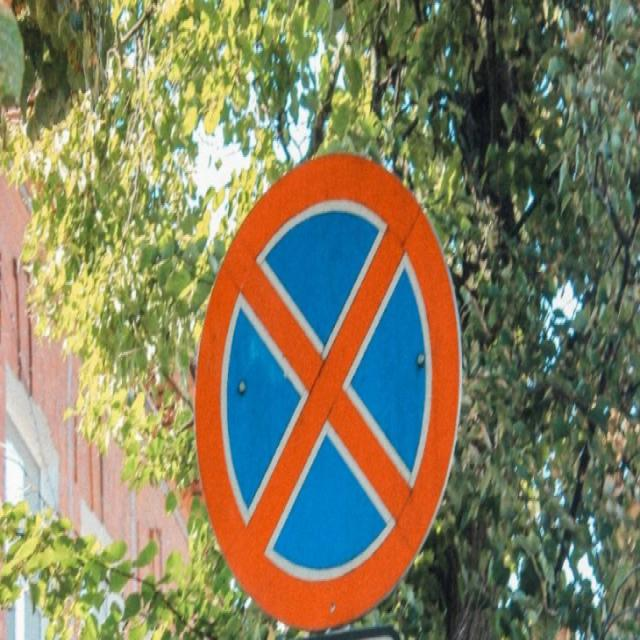no stopping: (194, 150, 465, 633)
